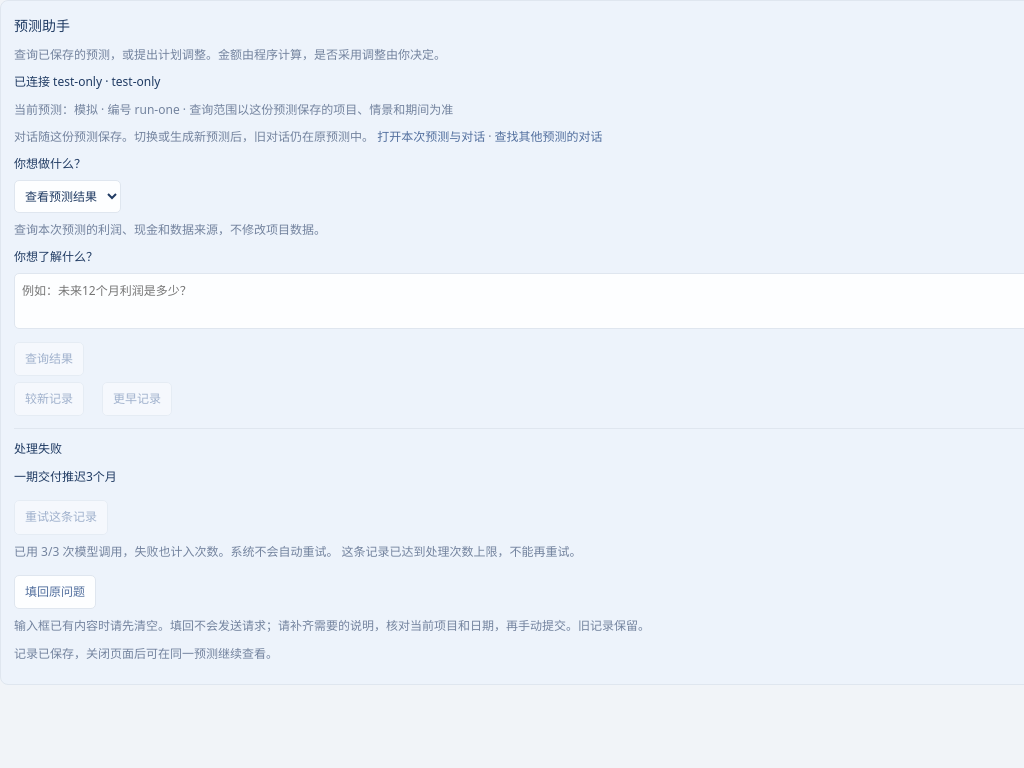
refills a failed change without sending, changing its known date or overwriting typed input
The width and height of the screenshot is (1024, 768).
Expected: the button "重试这条记录" is disabled, [14,500,108,535]
In the text box with id "agent-question": [519, 301] box [14,272,1023,329], type "未提交的新问题"
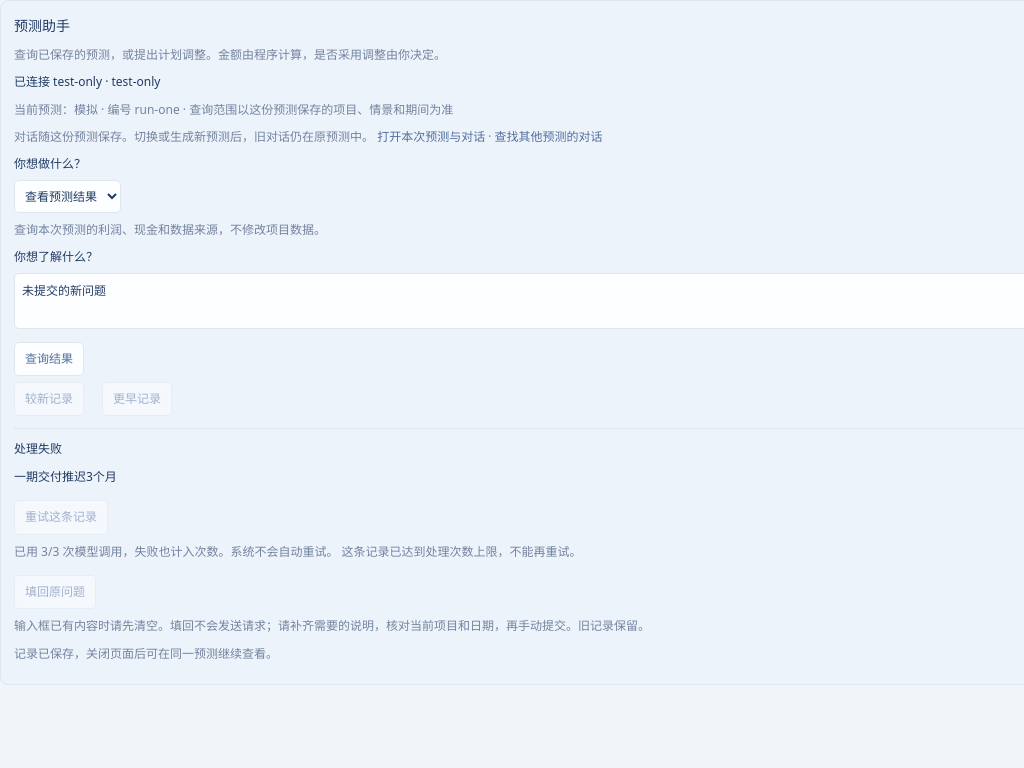
Expected: the button "填回原问题" is disabled, [14,575,96,609]
Clear the text box with id "agent-question": [519, 301] box [14,272,1023,329]
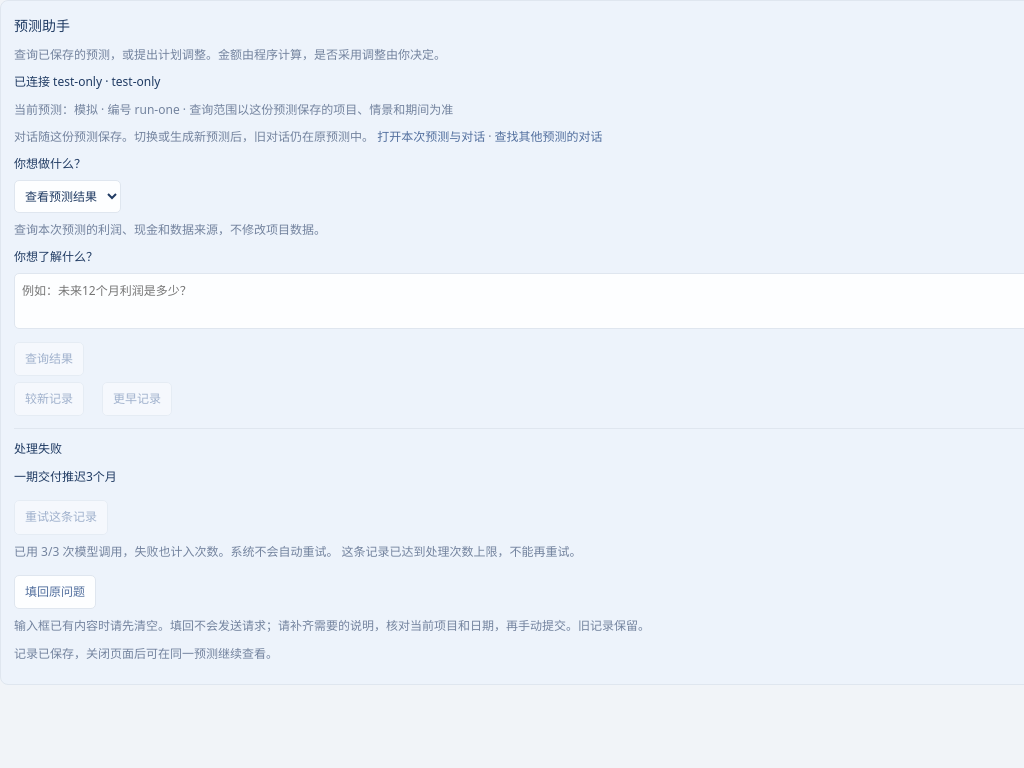
Click the button "填回原问题": [55, 592] box [14,575,96,609]
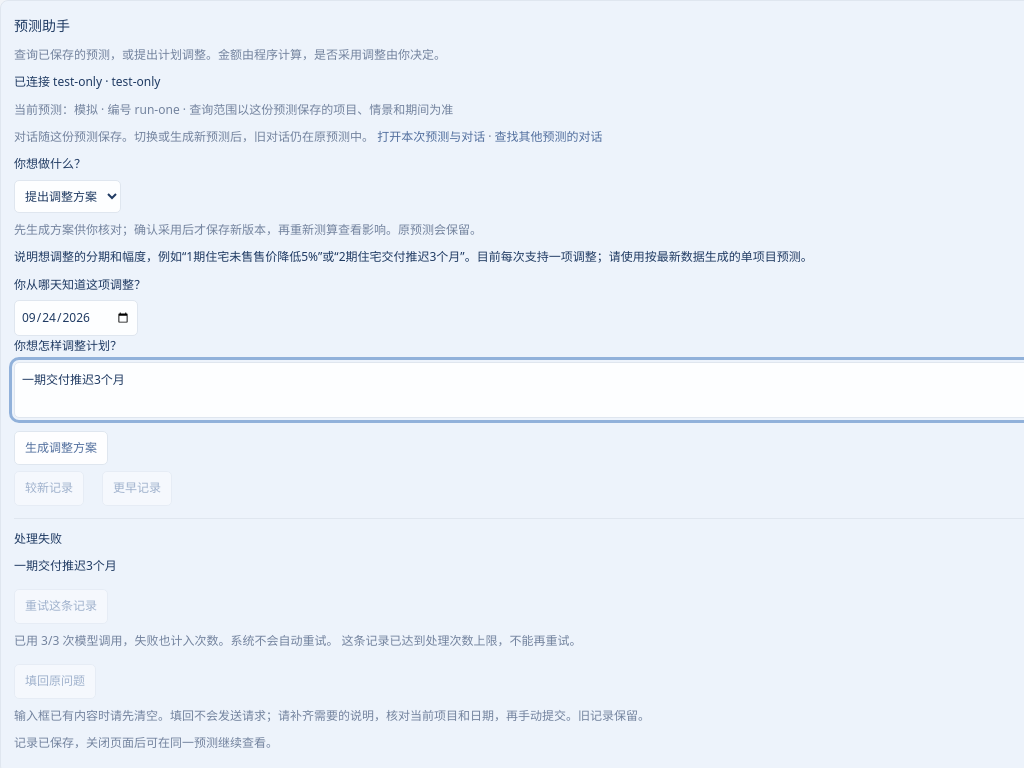
Expected: the dropdown with id "agent-mode" shows "提出调整方案", [14,180,121,213]
Expected: the date field with id "agent-known" holds "2026-09-24", [14,300,138,336]
